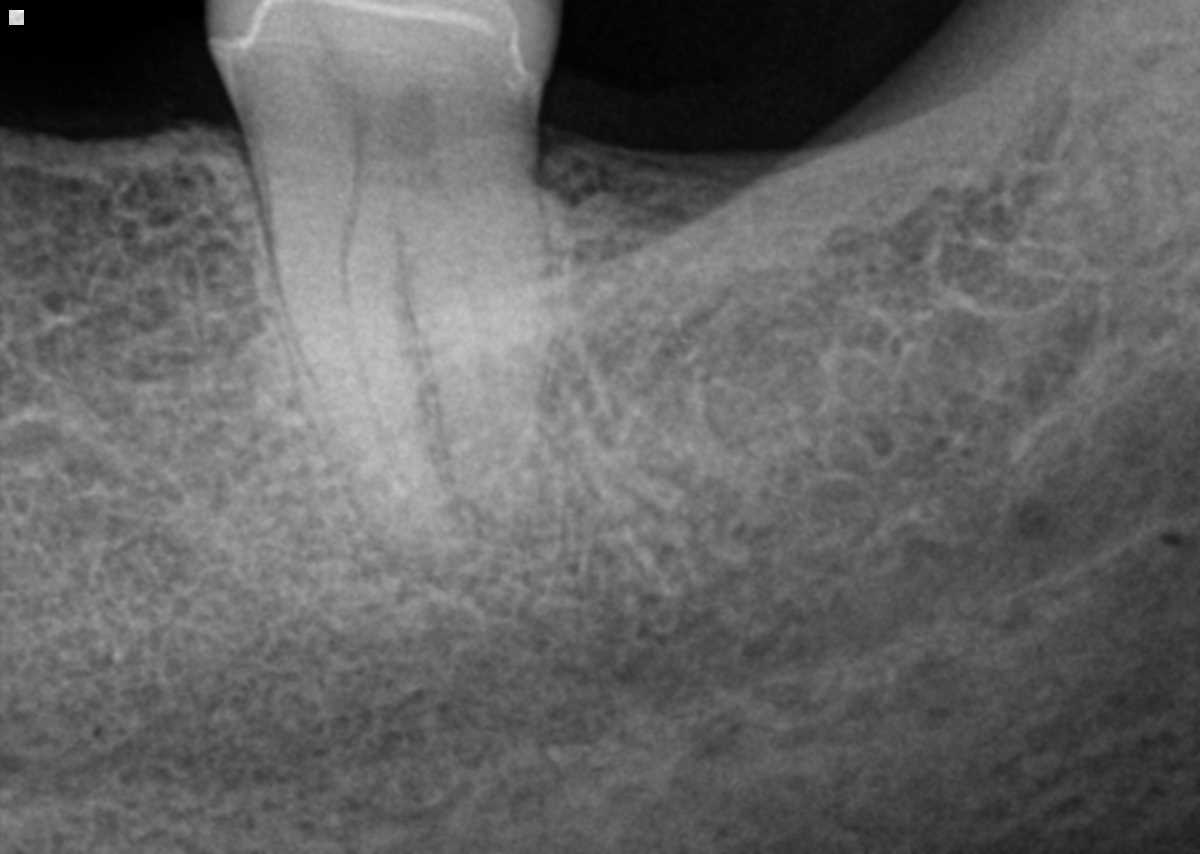Distal Canal: (448, 206, 506, 448)
Distal Root: (402, 199, 554, 502)
Mesial Canal: (340, 203, 420, 495)
Mesial Root: (259, 193, 465, 547)
